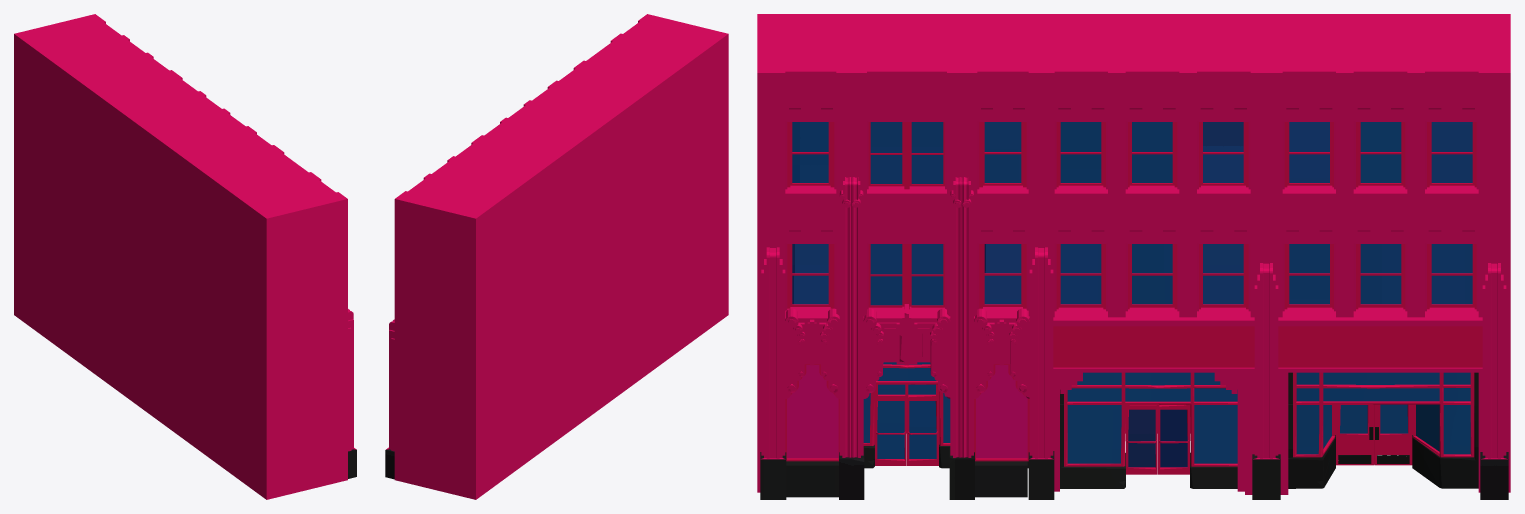
The model's file is Building_Deco00.fbx.
3 views of the same model, side by side, from view 1: azimuth 30°, elevation 25°; view 2: azimuth 150°, elevation 25°; view 3: azimuth 270°, elevation 25° (orthographic). The views are drawn at different scales.
Visible parts, largest first — view 1: SM_City_Building_Deco_01.mo; view 2: SM_City_Building_Deco_01.mo; view 3: SM_City_Building_Deco_01.mo.
Part boxes in pixels (x1,y1,x2,y2): SM_City_Building_Deco_01.mo: (14,14,356,499); SM_City_Building_Deco_01.mo: (385,14,728,499); SM_City_Building_Deco_01.mo: (757,14,1510,499).
Size of the model in its own units: 462 by 1360 by 2214.
